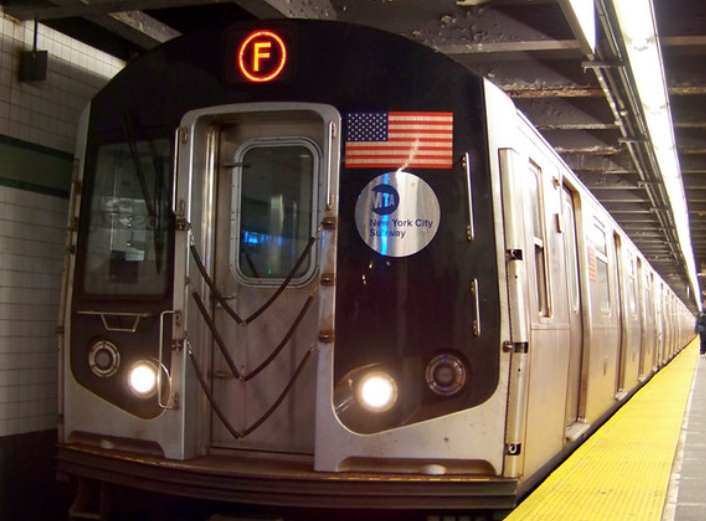train: (64, 18, 526, 477)
